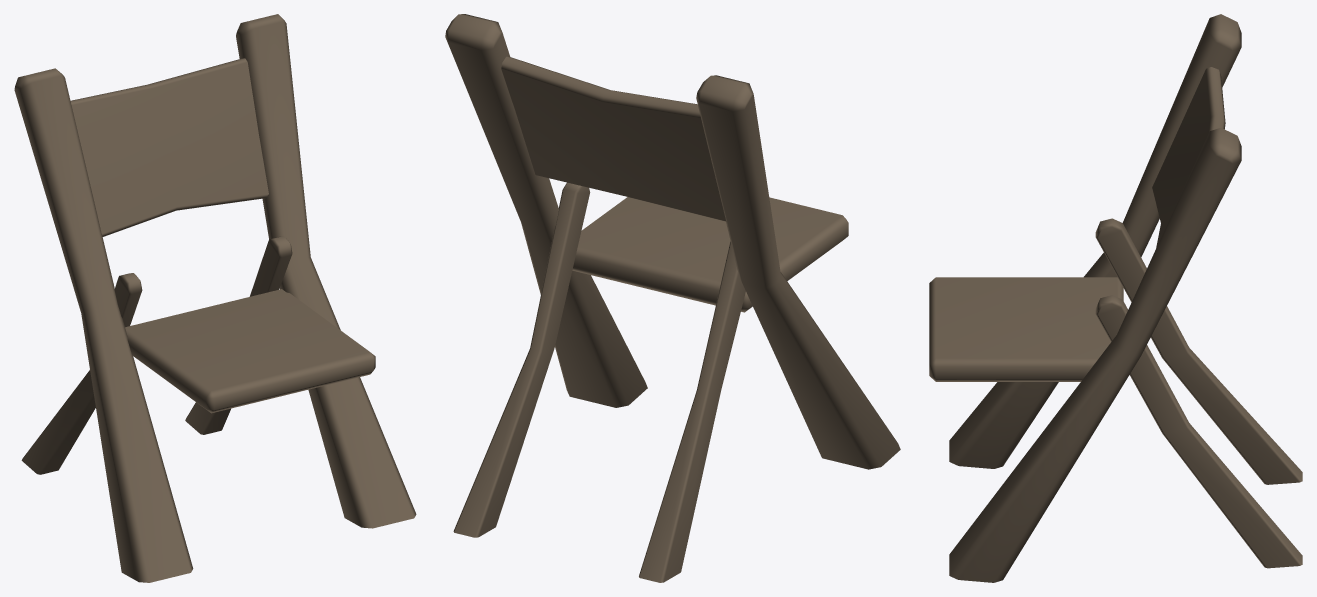
The model's file is chair.fbx.
3 renders of one model, left to right at view 1: azimuth 30°, elevation 25°; view 2: azimuth 150°, elevation 25°; view 3: azimuth 270°, elevation 25°, orthographic. The views are drawn at different scales.
Parts seen in each view (by area): view 1: klapstoel; view 2: klapstoel; view 3: klapstoel.
Boxes of the visible parts, <box> form: klapstoel: <box>14,14,416,582</box>; klapstoel: <box>445,14,900,582</box>; klapstoel: <box>929,14,1302,582</box>.
Size of the model in its own units: 32.02 by 46.63 by 35.61.
